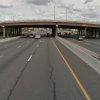Bridge: (5, 10, 95, 46)
